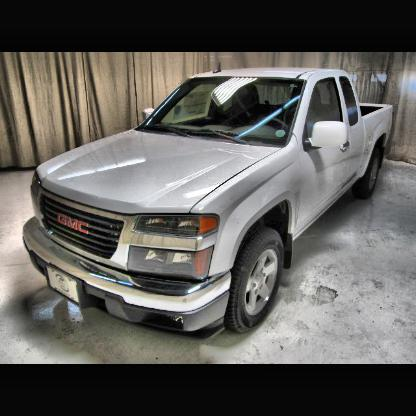GMC Canyon Extended Cab 2012: (24, 64, 395, 337)
